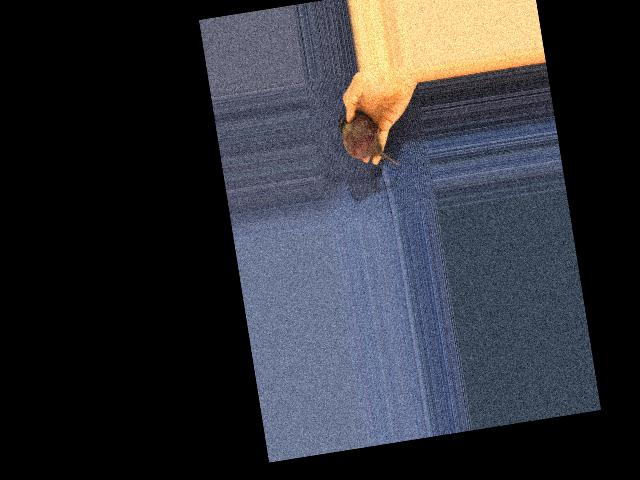beet: (336, 105, 400, 174)
